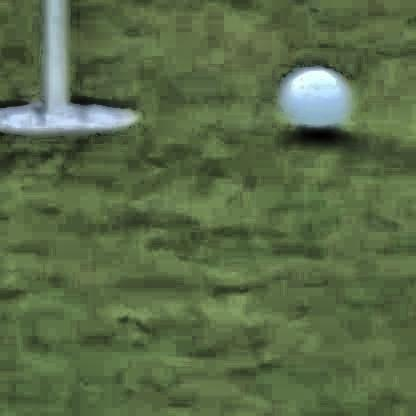golfball: (278, 64, 349, 134)
